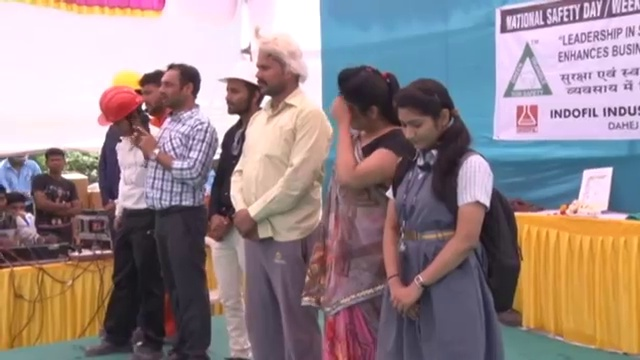helmet: (93, 83, 142, 126), (214, 63, 258, 90)
helmet_off: (331, 63, 402, 138), (391, 76, 457, 154), (247, 36, 311, 100), (152, 66, 200, 118), (135, 70, 164, 118), (43, 148, 66, 179), (5, 191, 30, 219), (6, 152, 28, 172), (0, 182, 10, 212)
helmet_on: (93, 84, 144, 140), (215, 61, 257, 120)
person: (380, 61, 526, 358), (228, 35, 332, 360), (317, 62, 411, 360), (132, 67, 220, 360), (80, 84, 162, 358), (206, 61, 263, 360), (30, 149, 81, 238), (0, 184, 28, 238), (0, 154, 42, 184)
